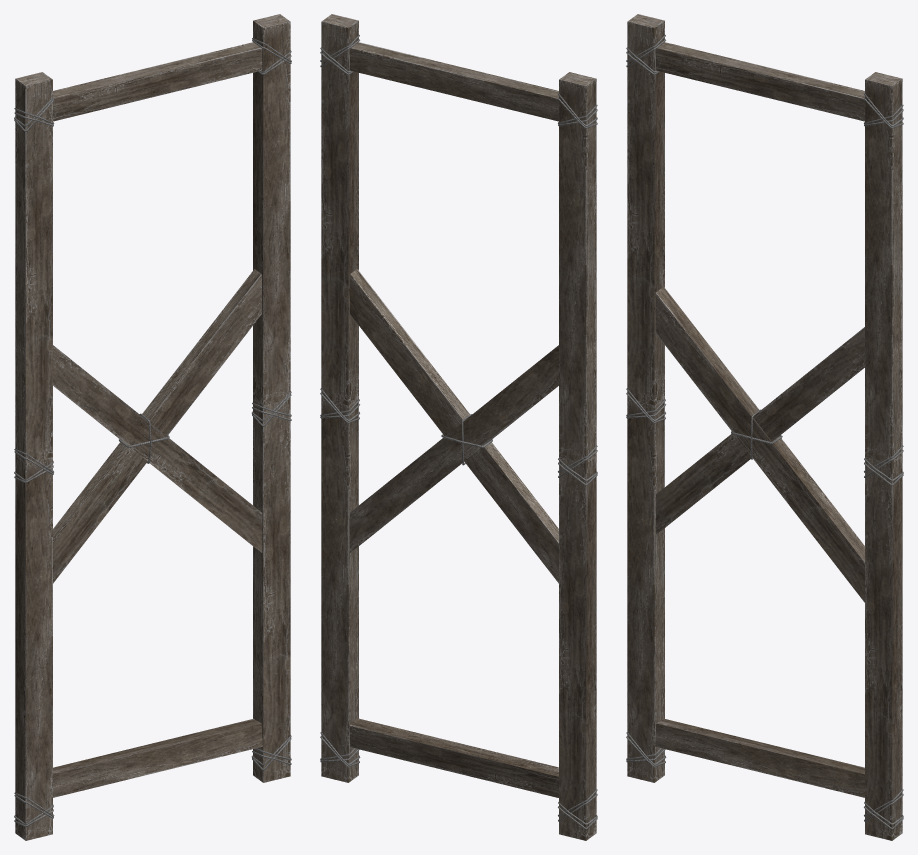
File: SM_WoodPlank02.FBX
3 views of the same model, side by side, from view 1: azimuth 30°, elevation 25°; view 2: azimuth 150°, elevation 25°; view 3: azimuth 330°, elevation 25° (orthographic).
Visible parts, largest first — view 1: SM_WoodPlank02; view 2: SM_WoodPlank02; view 3: SM_WoodPlank02.
Part boxes in pixels (x1,y1,x2,y2): SM_WoodPlank02: (14, 14, 291, 840); SM_WoodPlank02: (320, 14, 597, 840); SM_WoodPlank02: (626, 14, 903, 840).
Bounding box in the file's own units: 371 × 32.54 × 1000.
